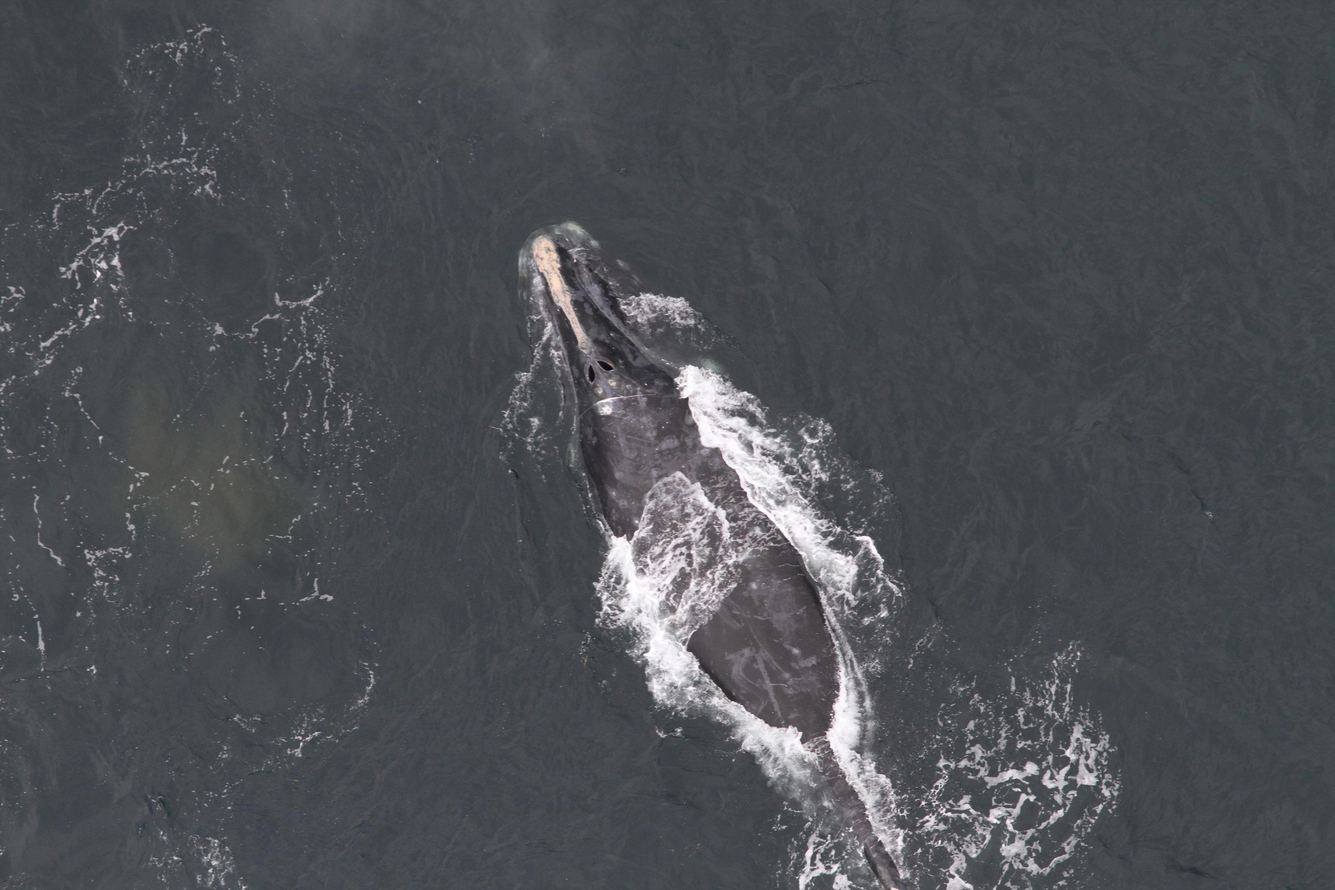whale: (507, 215, 899, 890)
